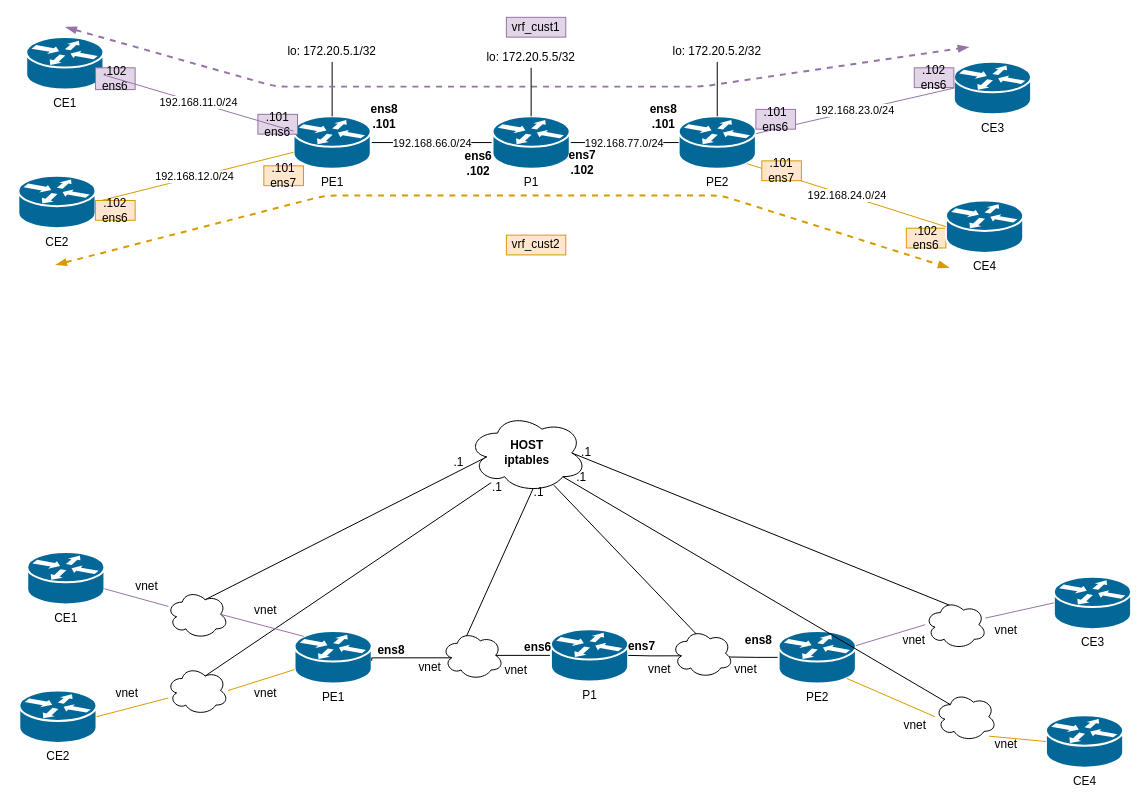
Image size: 1148x806. Some labels were removed from this diagram. The shapes that lost their labels are listed below. From the top down, each one's centre as x and y in pixels, then its label:
the point at 197,614: virbr12
the point at 955,624: virbr9
the point at 472,655: virbr11
the point at 702,653: virbrx
the point at 197,690: virbr8
the point at 965,716: virbr10
